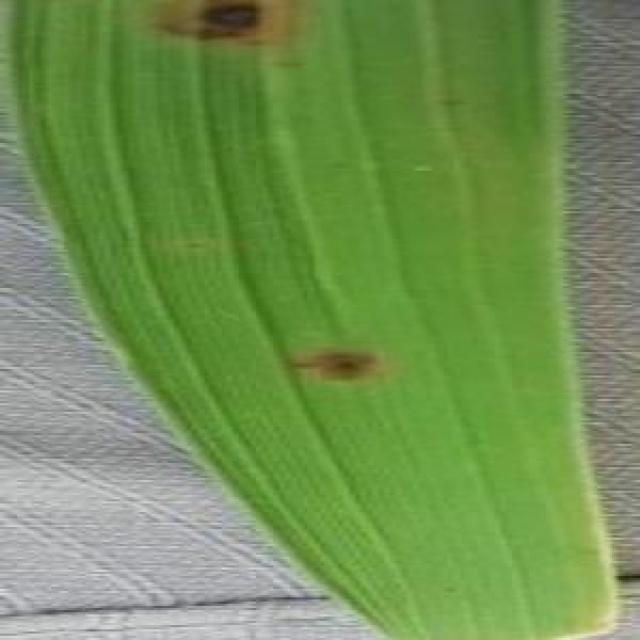Brown_Spot: (148, 0, 297, 68), (286, 346, 383, 385)
